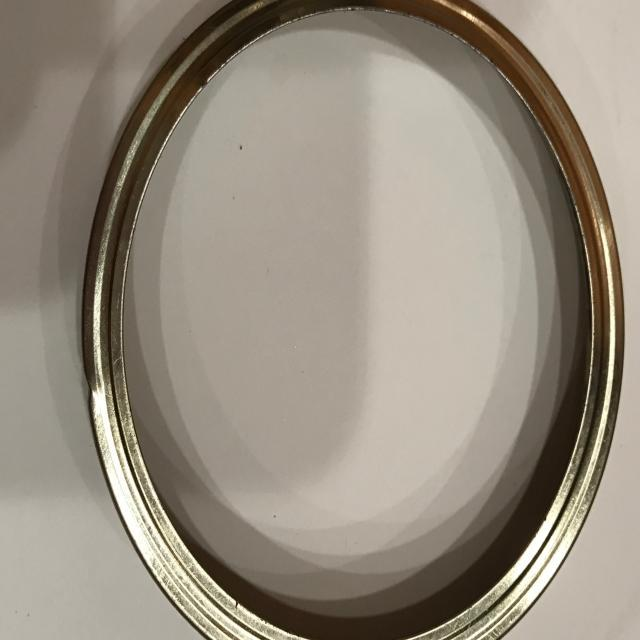metal: (78, 1, 625, 640)
